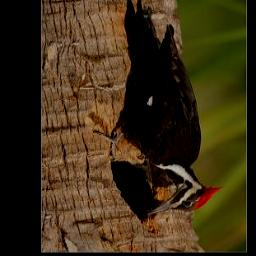Woodpecker: (92, 0, 224, 216)
